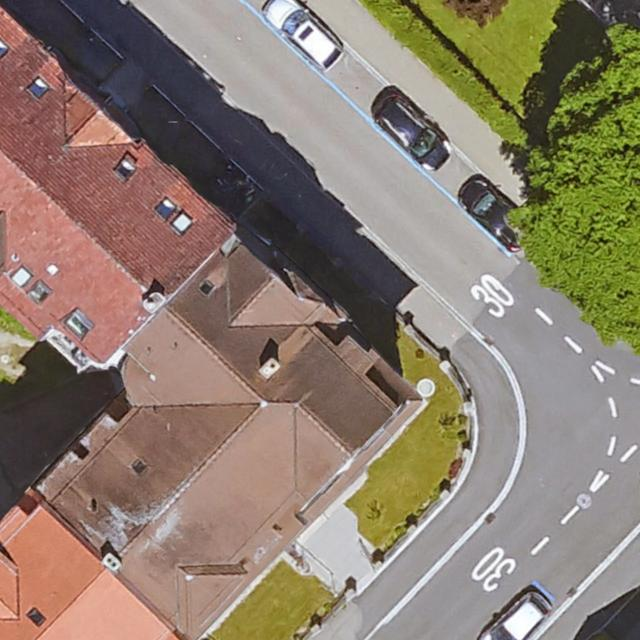tree: (509, 27, 640, 352), (447, 0, 511, 24)
